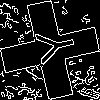Y: (25, 25, 77, 68)
